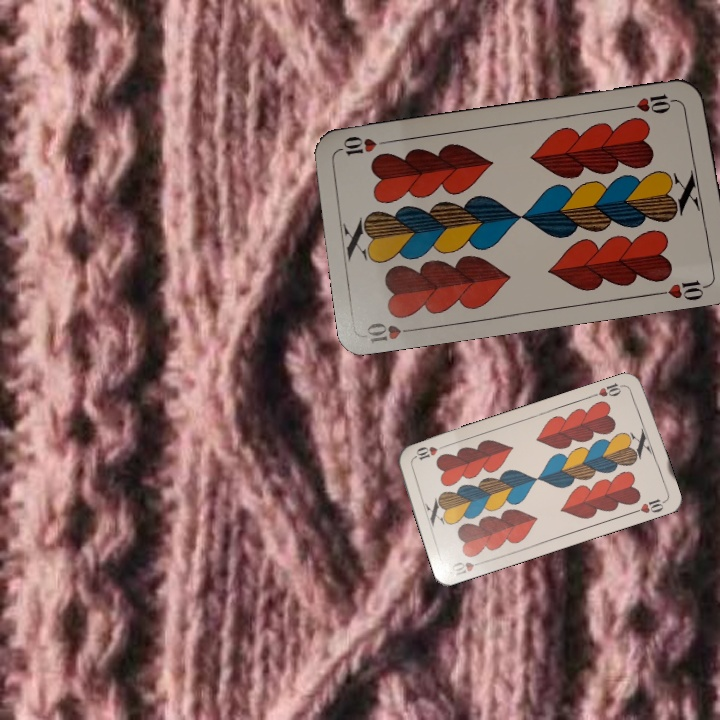H10: (363, 318, 422, 345), (623, 90, 682, 116), (448, 557, 488, 580), (594, 379, 628, 399)
